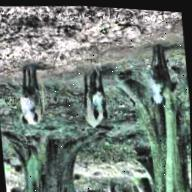boar: (72, 54, 127, 134), (10, 52, 56, 135), (140, 33, 188, 110)
